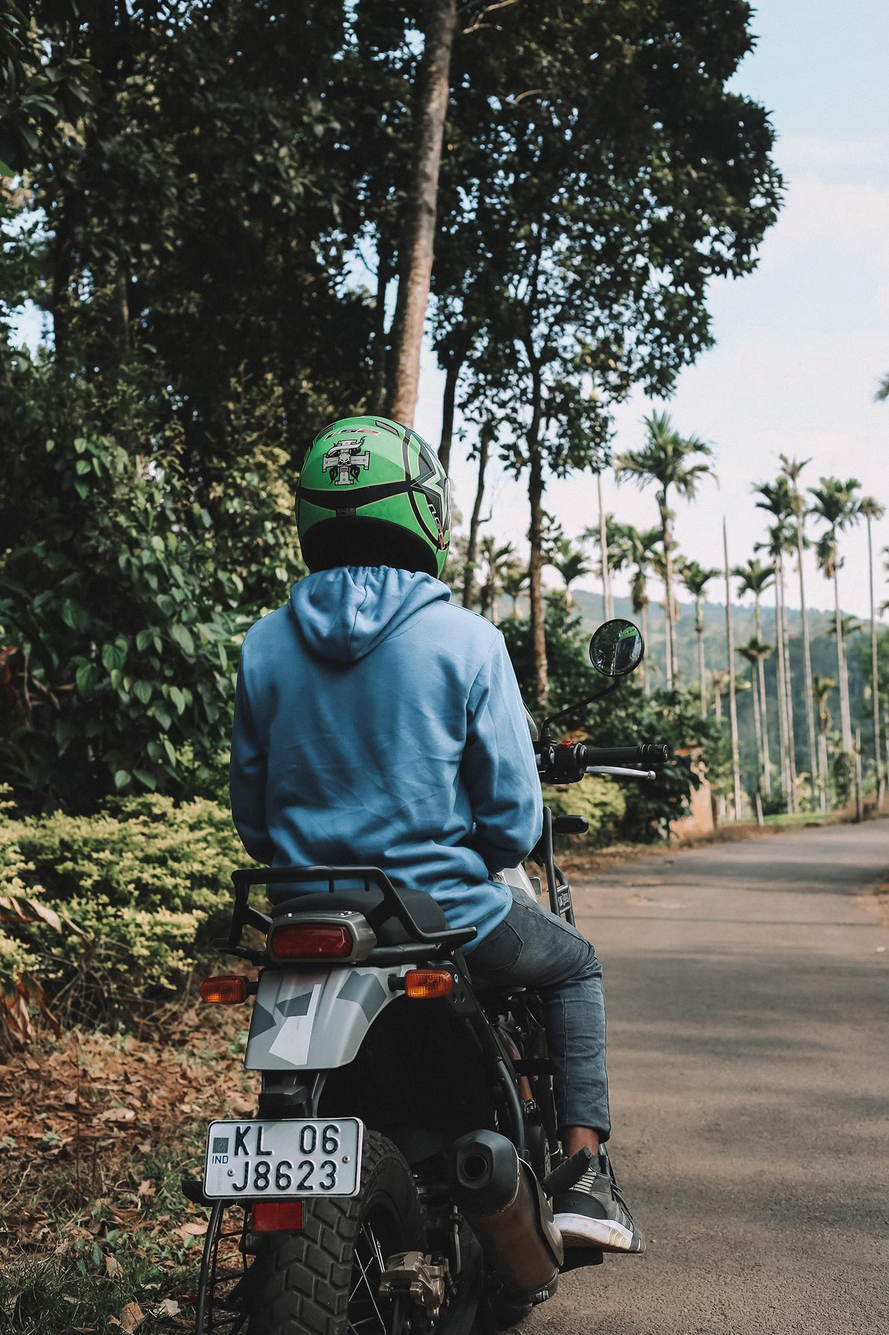helmet: (293, 414, 452, 595)
